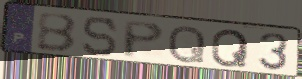3: (257, 31, 289, 72)
B: (36, 12, 79, 54)
P: (122, 19, 167, 60)
Q: (166, 24, 208, 65), (209, 28, 251, 68)
S: (81, 15, 120, 58)
